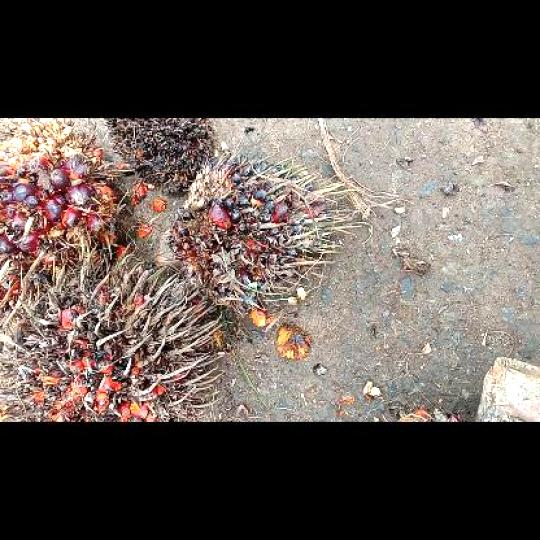masak: (0, 118, 129, 313)
terlalu masak: (10, 255, 221, 420)
